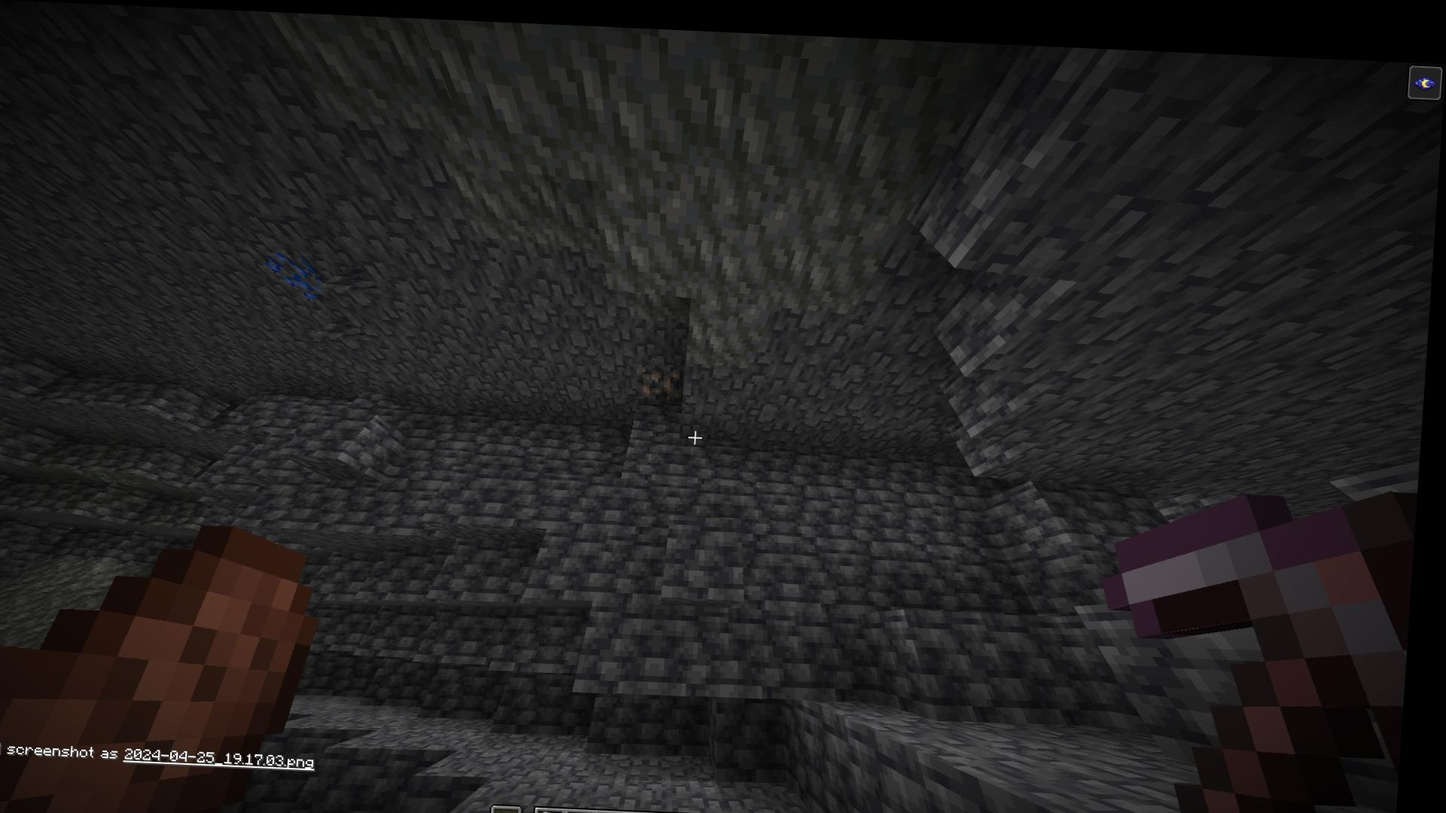iron ore: (644, 359, 691, 402)
